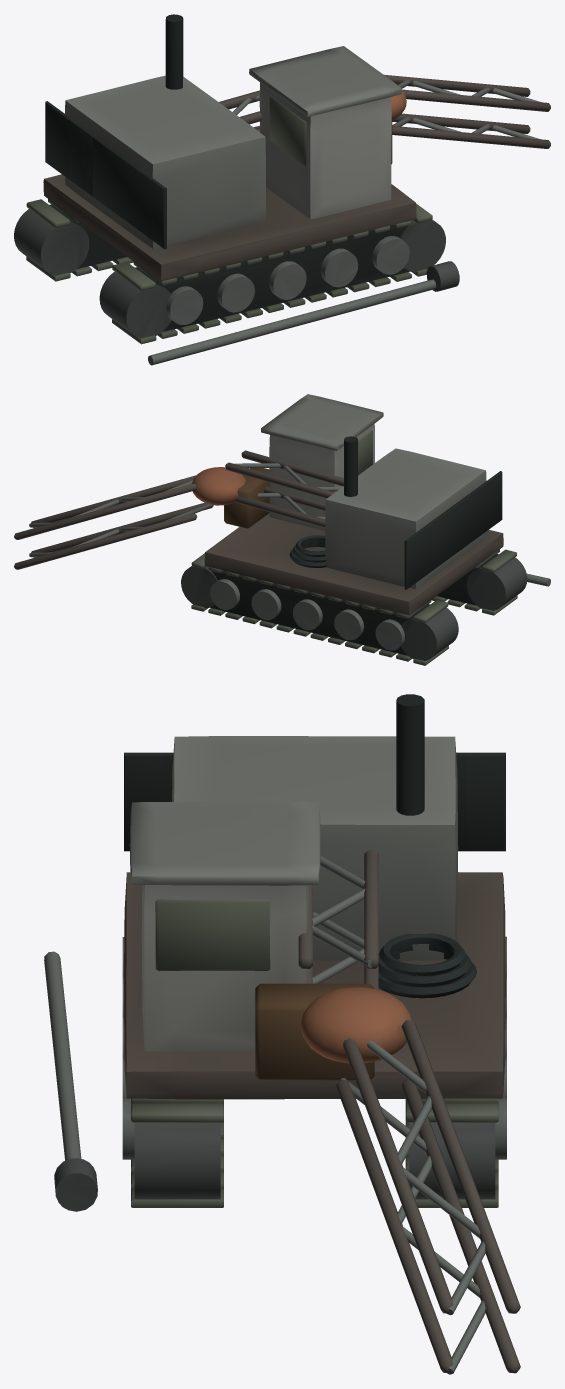
File: drill_rig_b_lod1.glb
3 renders of one model, top to bottom at view 1: azimuth 30°, elevation 25°; view 2: azimuth 150°, elevation 25°; view 3: azimuth 270°, elevation 25°, orthographic. The views are drawn at different scales.
Visible parts, largest first — view 1: Surface.001; view 2: Surface.001; view 3: Surface.001.
Boxes of the visible parts, box(x1,y1,x2,y2) form: Surface.001: box(14, 14, 550, 365); Surface.001: box(14, 394, 550, 665); Surface.001: box(44, 694, 520, 1374).
Size of the model in its own units: 8.12 by 3.47 by 3.99.
